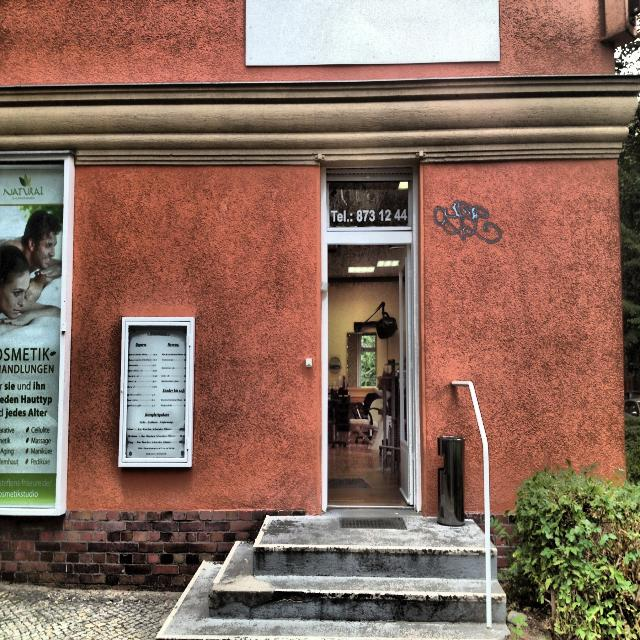escada: (160, 515, 508, 640)
